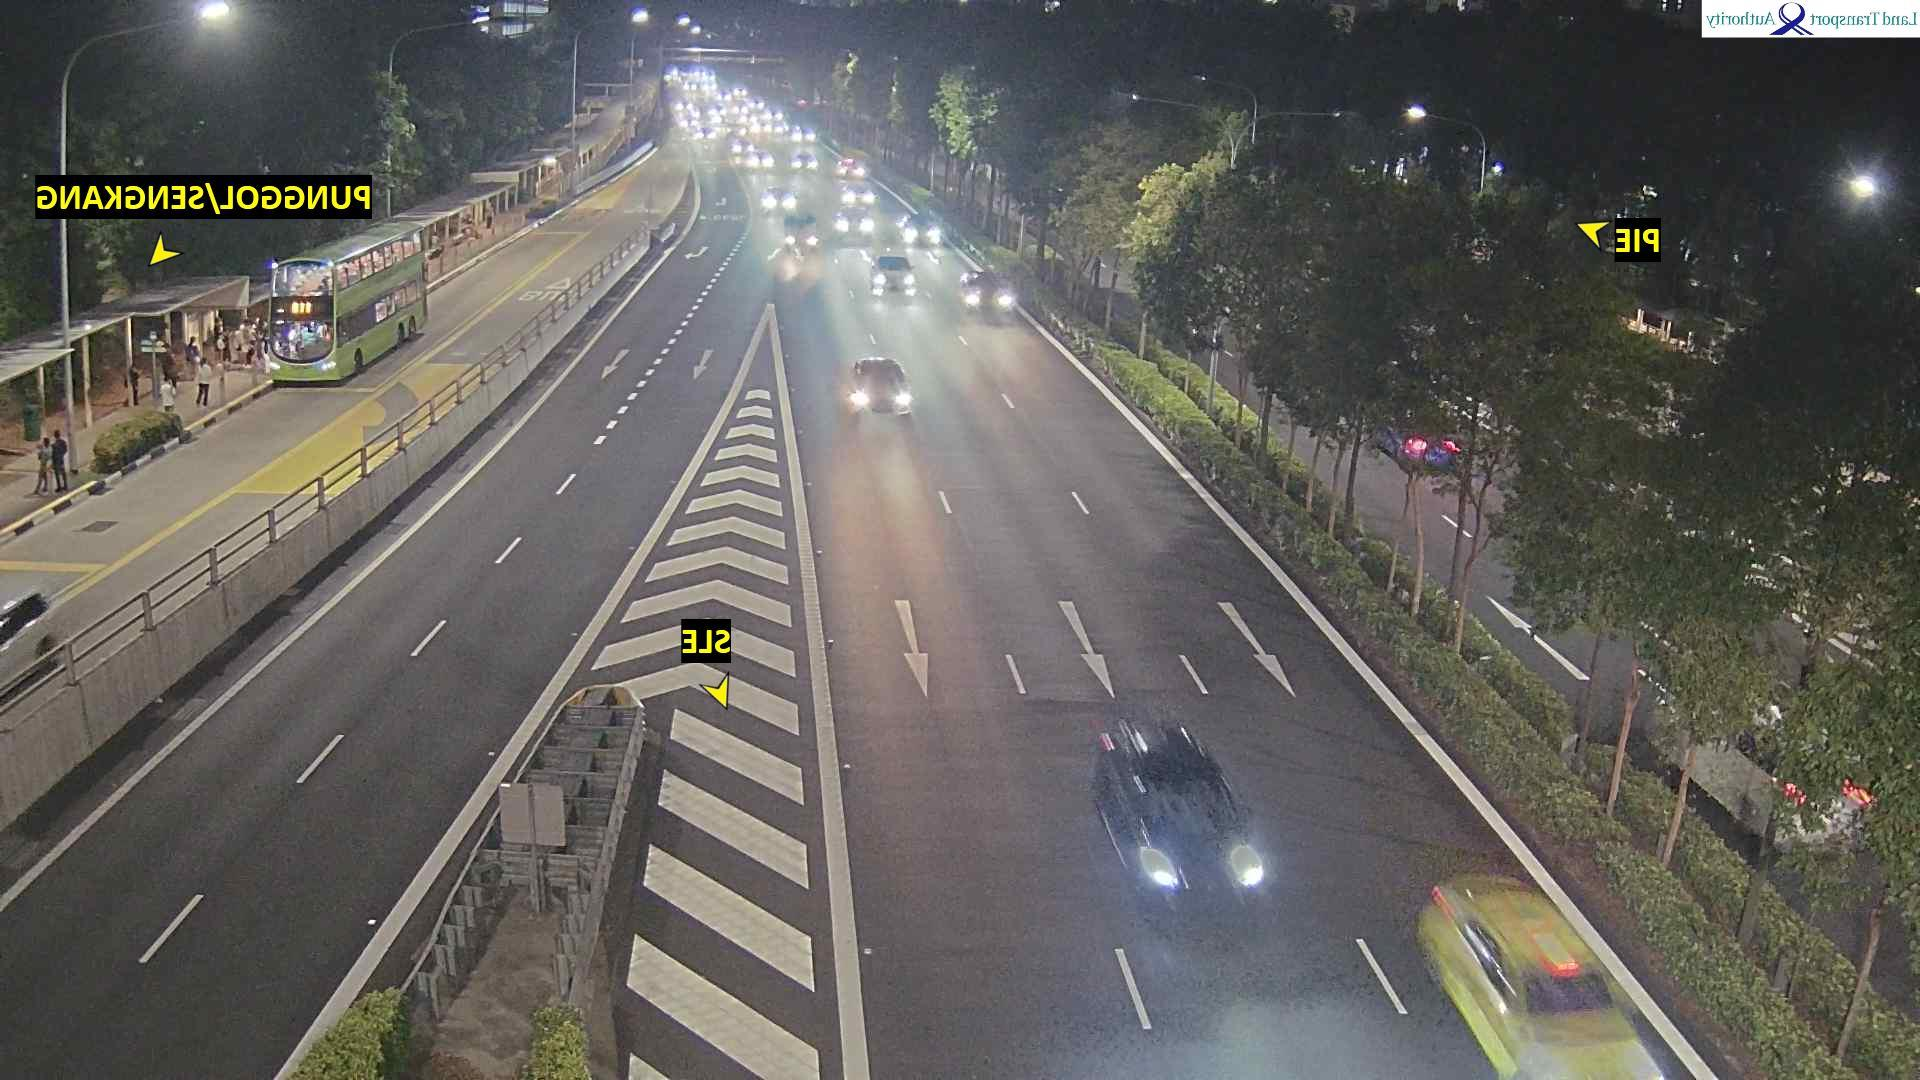bus: (265, 218, 430, 385)
cars: (1415, 870, 1673, 1077), (1091, 715, 1269, 905), (1, 589, 59, 690), (1375, 421, 1464, 473), (851, 356, 915, 415), (767, 231, 824, 287), (959, 268, 1019, 315), (870, 252, 919, 297), (899, 208, 943, 251), (785, 211, 822, 257), (840, 208, 873, 244), (760, 182, 796, 214), (836, 153, 870, 179), (839, 185, 876, 208), (791, 148, 822, 171), (746, 156, 777, 174), (728, 140, 756, 158), (793, 127, 818, 146), (764, 119, 786, 136), (695, 128, 716, 144)
